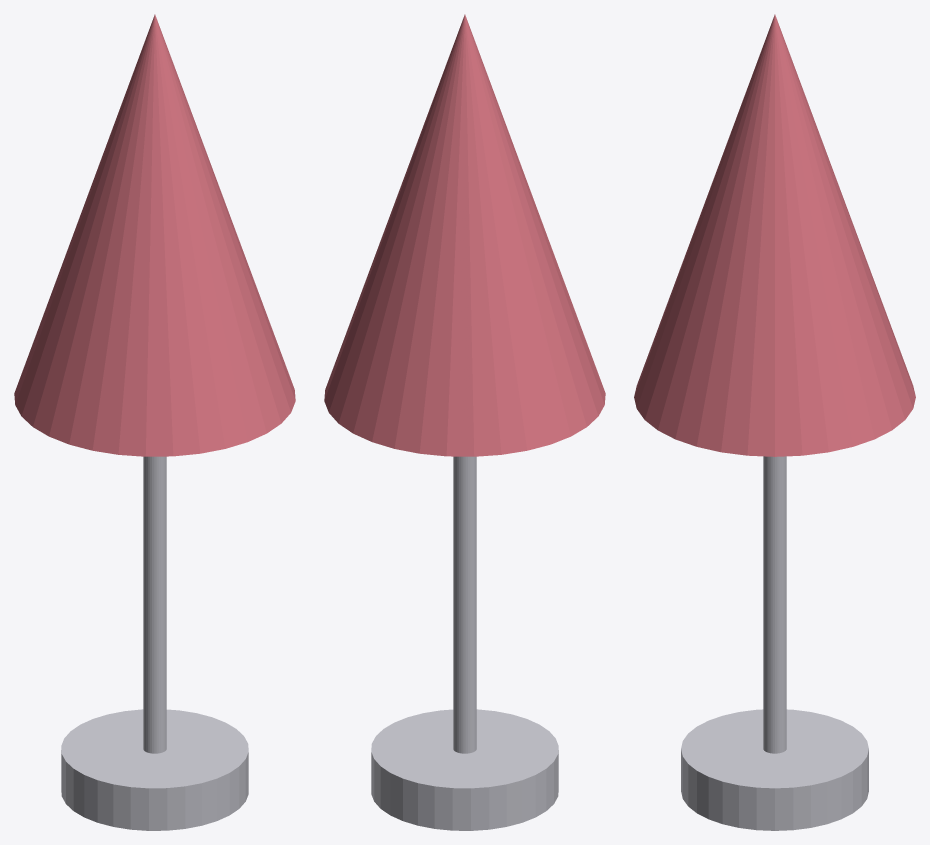
The model's file is furn_lamp_table_01.glb.
The picture shows the model from 3 angles, left to right: view 1: azimuth 30°, elevation 25°; view 2: azimuth 150°, elevation 25°; view 3: azimuth 270°, elevation 25°; orthographic projection.
Parts seen in each view (by area): view 1: furn_lamp_table_01; view 2: furn_lamp_table_01; view 3: furn_lamp_table_01.
Part boxes in pixels (x1,y1,x2,y2): furn_lamp_table_01: (14,14,295,830); furn_lamp_table_01: (324,14,605,830); furn_lamp_table_01: (634,14,915,830).
Bounding box in the file's own units: 0.24 × 0.73 × 0.24.
